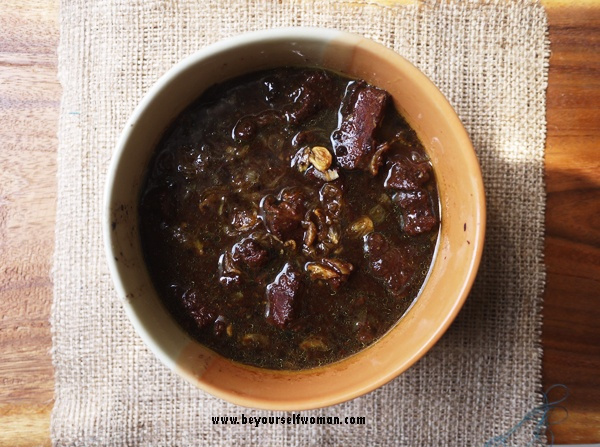rawon: (178, 65, 461, 392)
